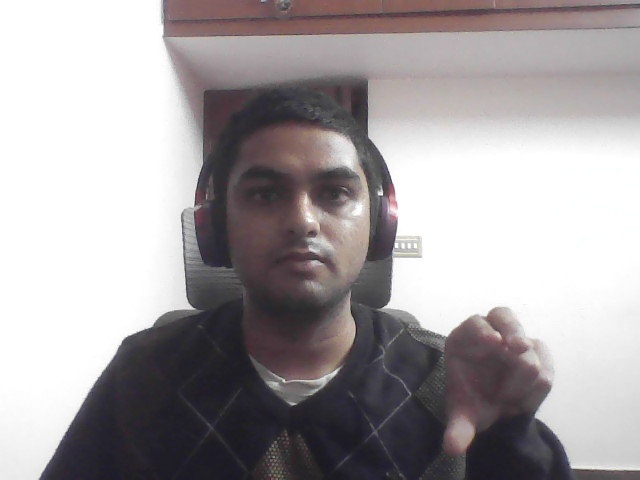No: (410, 290, 584, 468)
